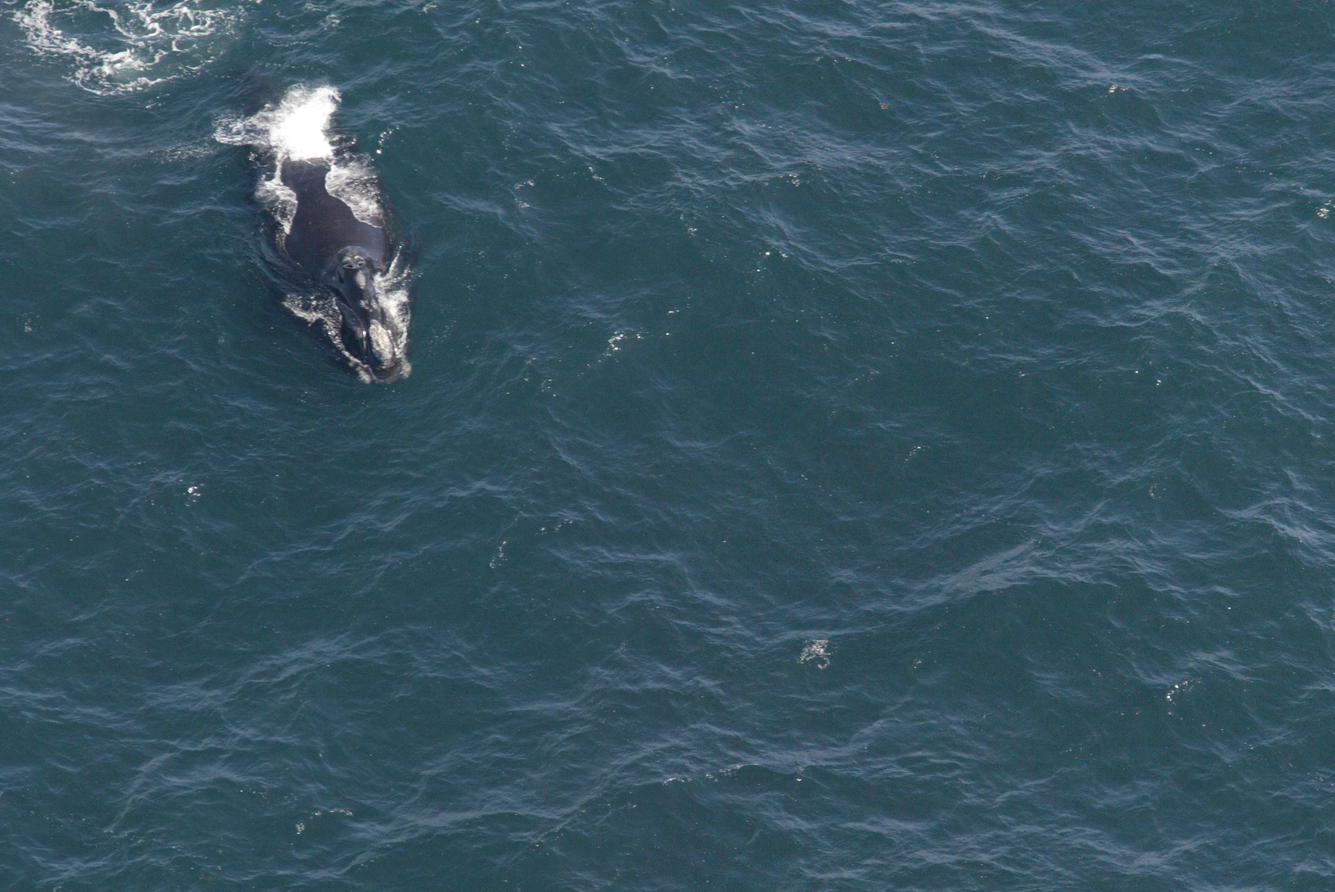whale: (209, 18, 426, 392)
